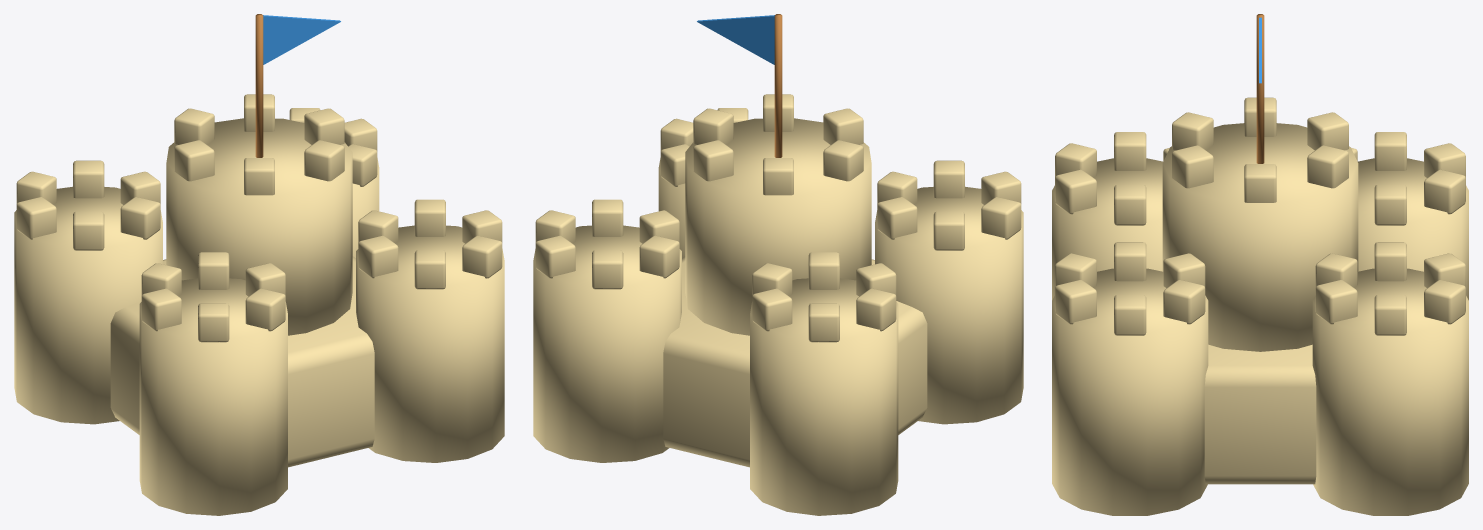
Rendered from sandcastle.glb.
3 views of the same model, side by side, from view 1: azimuth 30°, elevation 25°; view 2: azimuth 150°, elevation 25°; view 3: azimuth 270°, elevation 25° (orthographic). The views are drawn at different scales.
Visible parts, largest first — view 1: sandcastle; view 2: sandcastle; view 3: sandcastle.
Part boxes in pixels (x1,y1,x2,y2): sandcastle: (14,14,504,515); sandcastle: (533,14,1023,515); sandcastle: (1052,14,1468,515).
Size of the model in its own units: 1.28 by 1.4 by 1.28.
